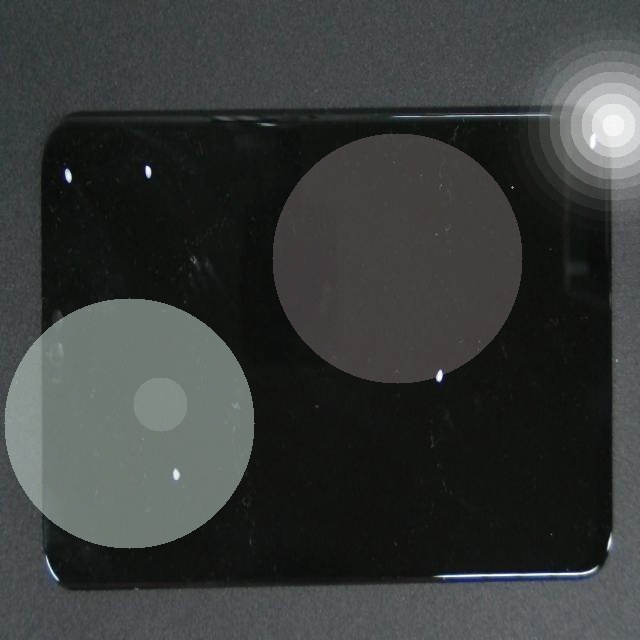stain: (224, 152, 640, 527), (93, 199, 256, 640), (292, 37, 640, 204), (72, 45, 206, 239), (48, 52, 101, 220)
